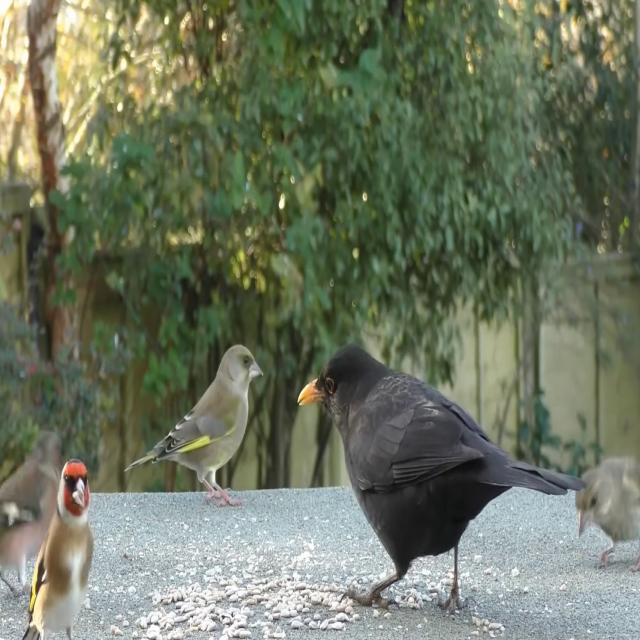beak: (296, 374, 325, 406), (72, 480, 87, 511), (247, 355, 263, 381), (576, 504, 586, 539)
bird: (297, 337, 571, 627), (121, 343, 262, 509), (18, 462, 94, 640), (0, 441, 68, 592), (575, 444, 640, 566)
